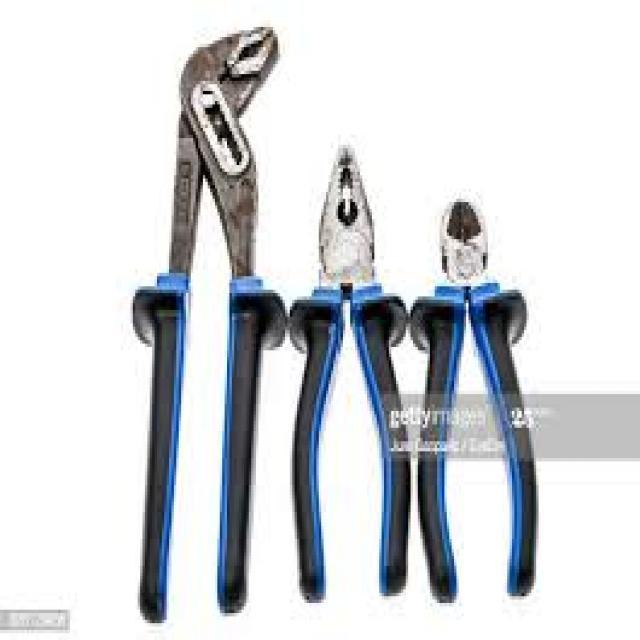pliers: (130, 15, 286, 630), (404, 182, 547, 614), (287, 130, 408, 608)
